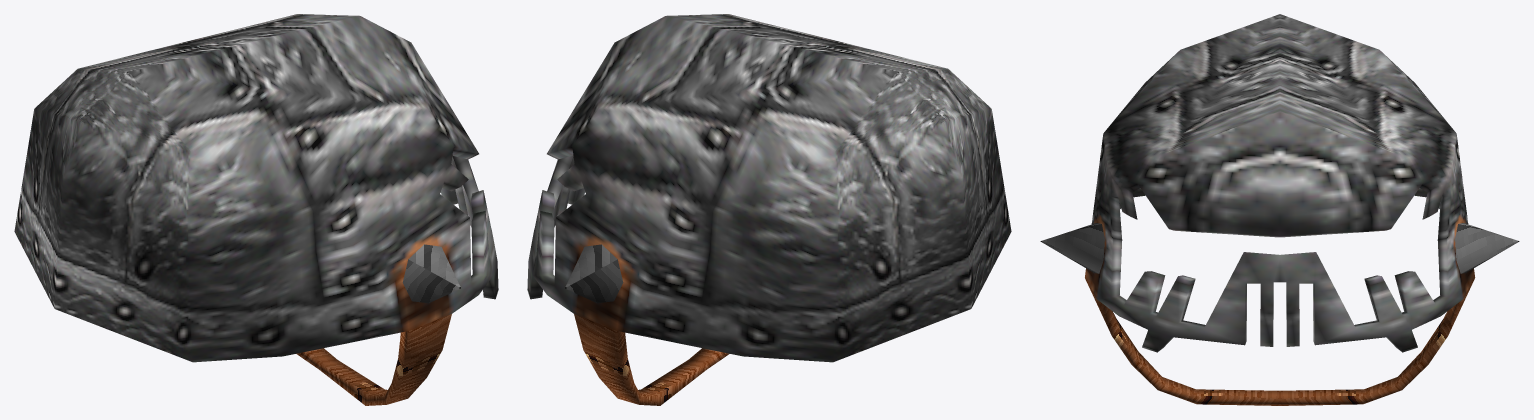
3 renders of one model, left to right at view 1: azimuth 30°, elevation 25°; view 2: azimuth 150°, elevation 25°; view 3: azimuth 270°, elevation 25°, orthographic. The views are drawn at different scales.
Parts seen in each view (by area): view 1: it640; view 2: it640; view 3: it640.
Part boxes in pixels (x1,y1,x2,y2): it640: [14, 14, 498, 405]; it640: [527, 14, 1011, 405]; it640: [1040, 14, 1519, 405].
Bounding box in the file's own units: 1.87 × 1.5 × 2.15.
3 materials, 3 textured.
